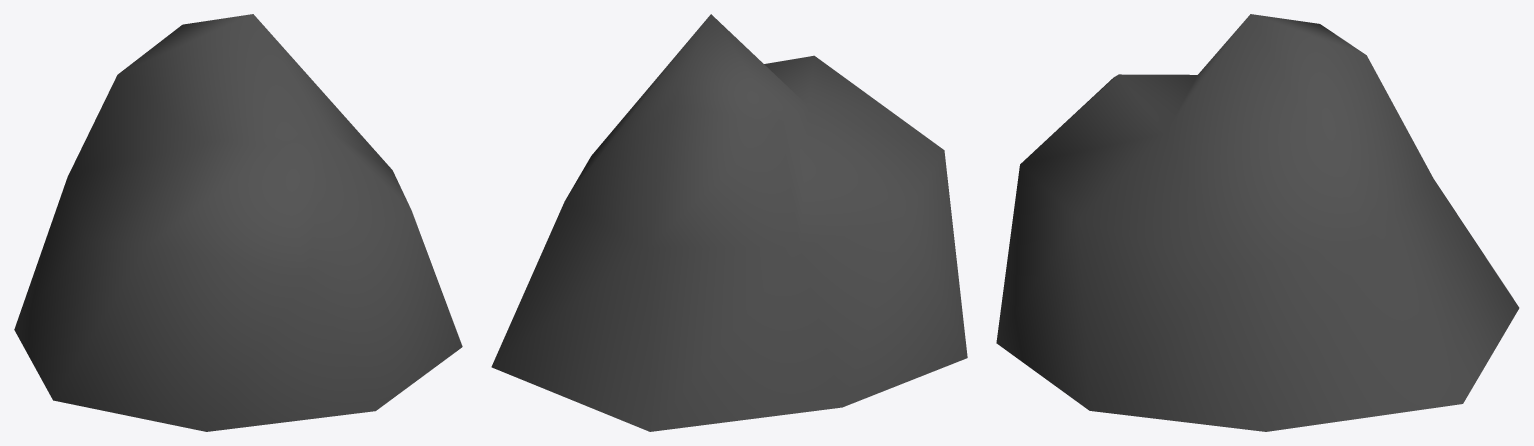
File: Rock.fbx
The picture shows the model from 3 angles, left to right: view 1: azimuth 30°, elevation 25°; view 2: azimuth 150°, elevation 25°; view 3: azimuth 270°, elevation 25°; orthographic projection. The views are drawn at different scales.
Visible parts, largest first — view 1: Rock; view 2: Rock; view 3: Rock.
Part boxes in pixels (box(x1,y1,x2,y2)): Rock: box(14, 14, 462, 431); Rock: box(491, 14, 967, 431); Rock: box(996, 14, 1519, 431).
Bounding box in the file's own units: 192 × 141 × 204.
